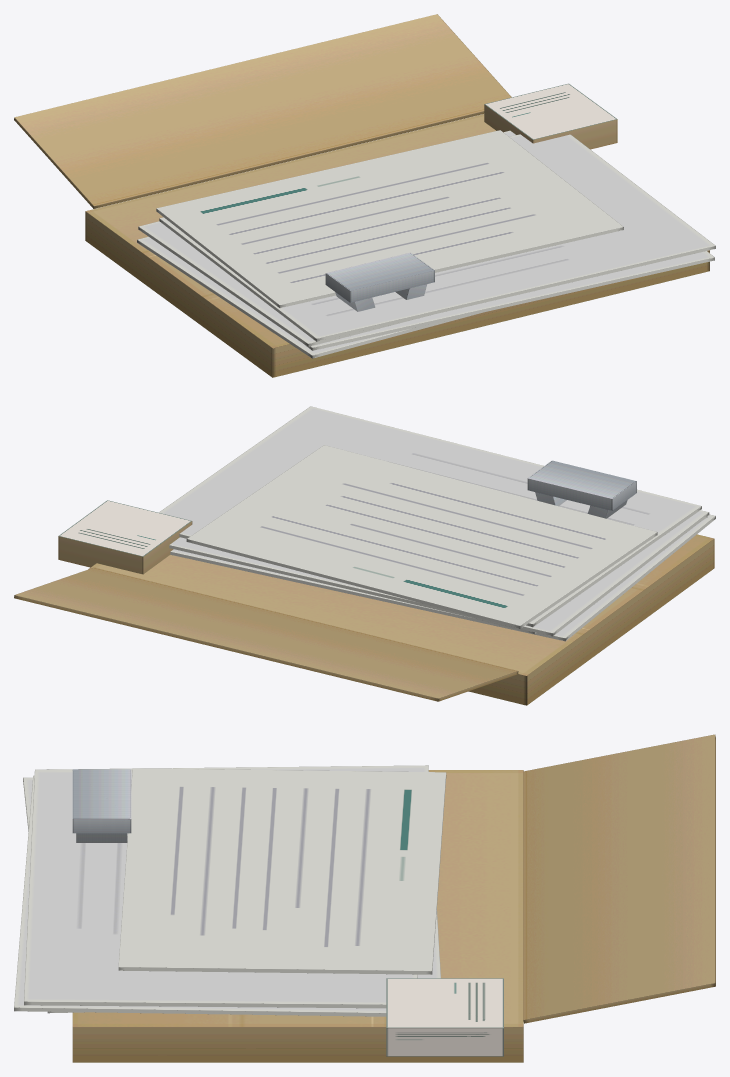
Rendered from document-folder.glb.
3 views of the same model, one above another, from view 1: azimuth 30°, elevation 25°; view 2: azimuth 150°, elevation 25°; view 3: azimuth 270°, elevation 25° (orthographic). The views are drawn at different scales.
Visible parts, largest first — view 1: document-folder-mesh; view 2: document-folder-mesh; view 3: document-folder-mesh.
Boxes of the visible parts, x1=… form: document-folder-mesh: x1=14, y1=14, x2=715, y2=377; document-folder-mesh: x1=14, y1=406, x2=715, y2=705; document-folder-mesh: x1=14, y1=734, x2=715, y2=1062.
Size of the model in its own units: 0.337 by 0.046 by 0.3578.
1 material, 1 textured.
